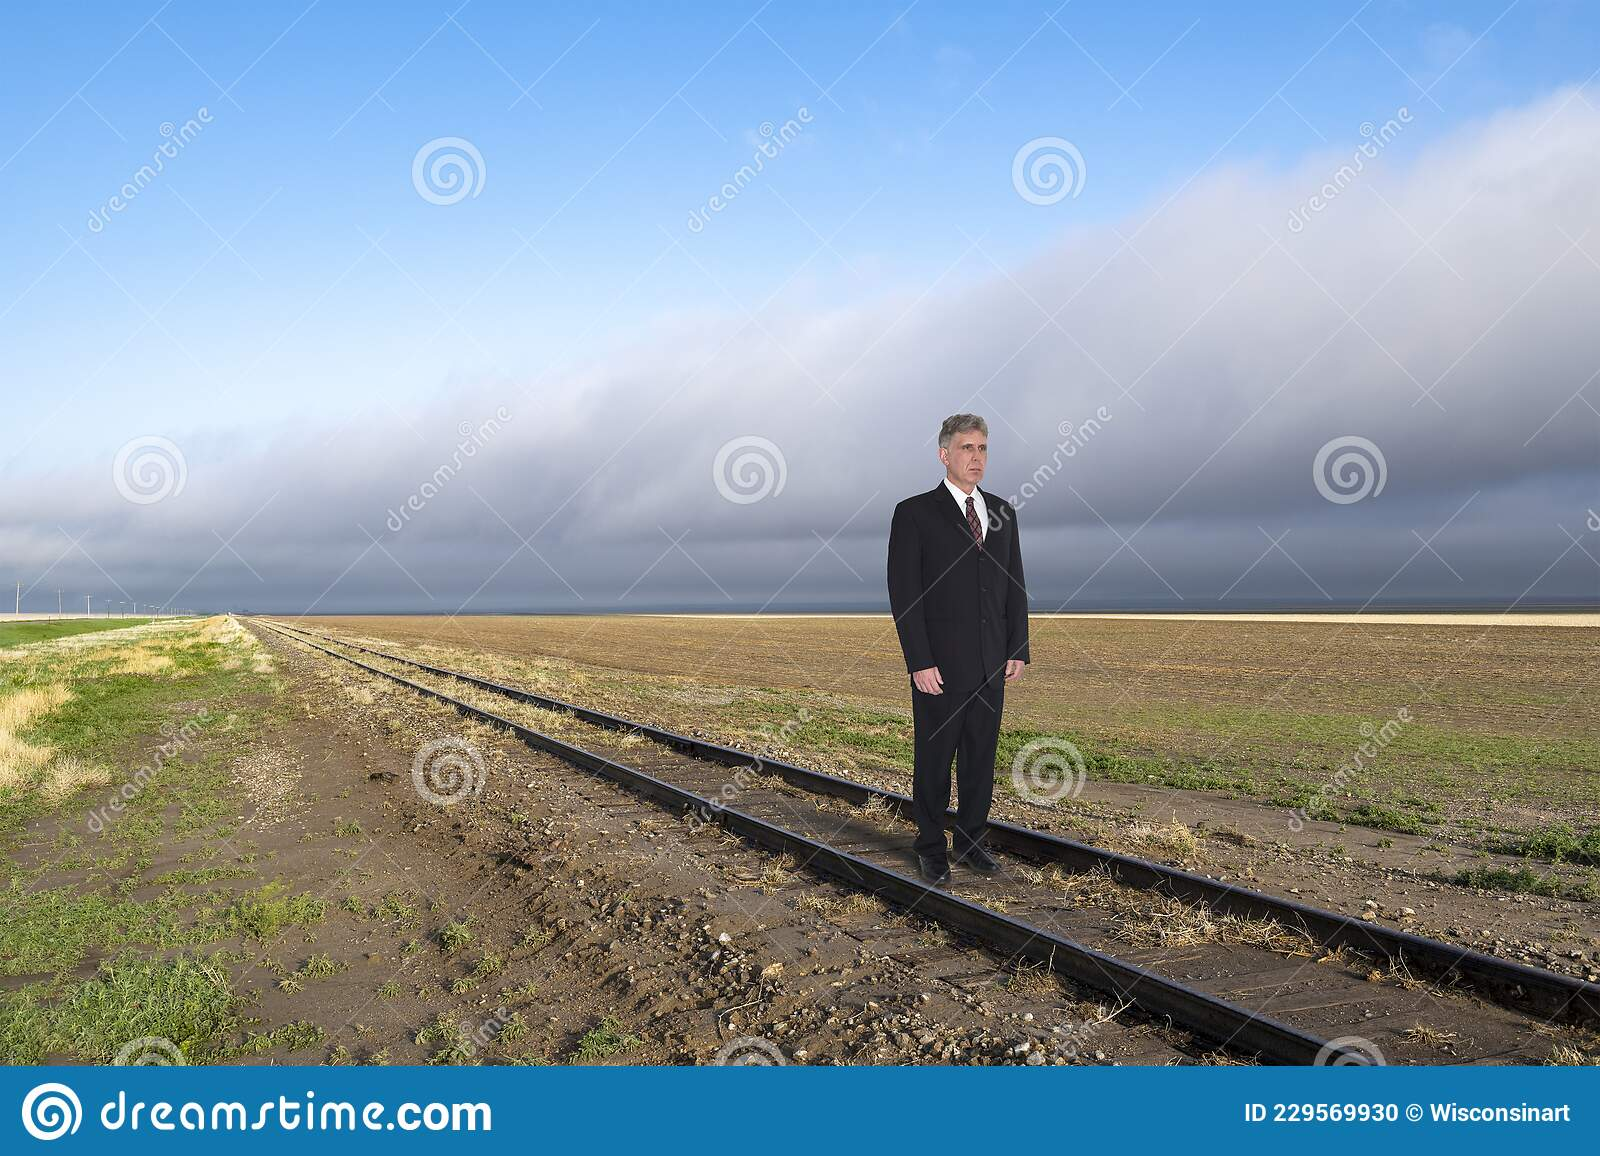person: (888, 414, 1028, 883)
